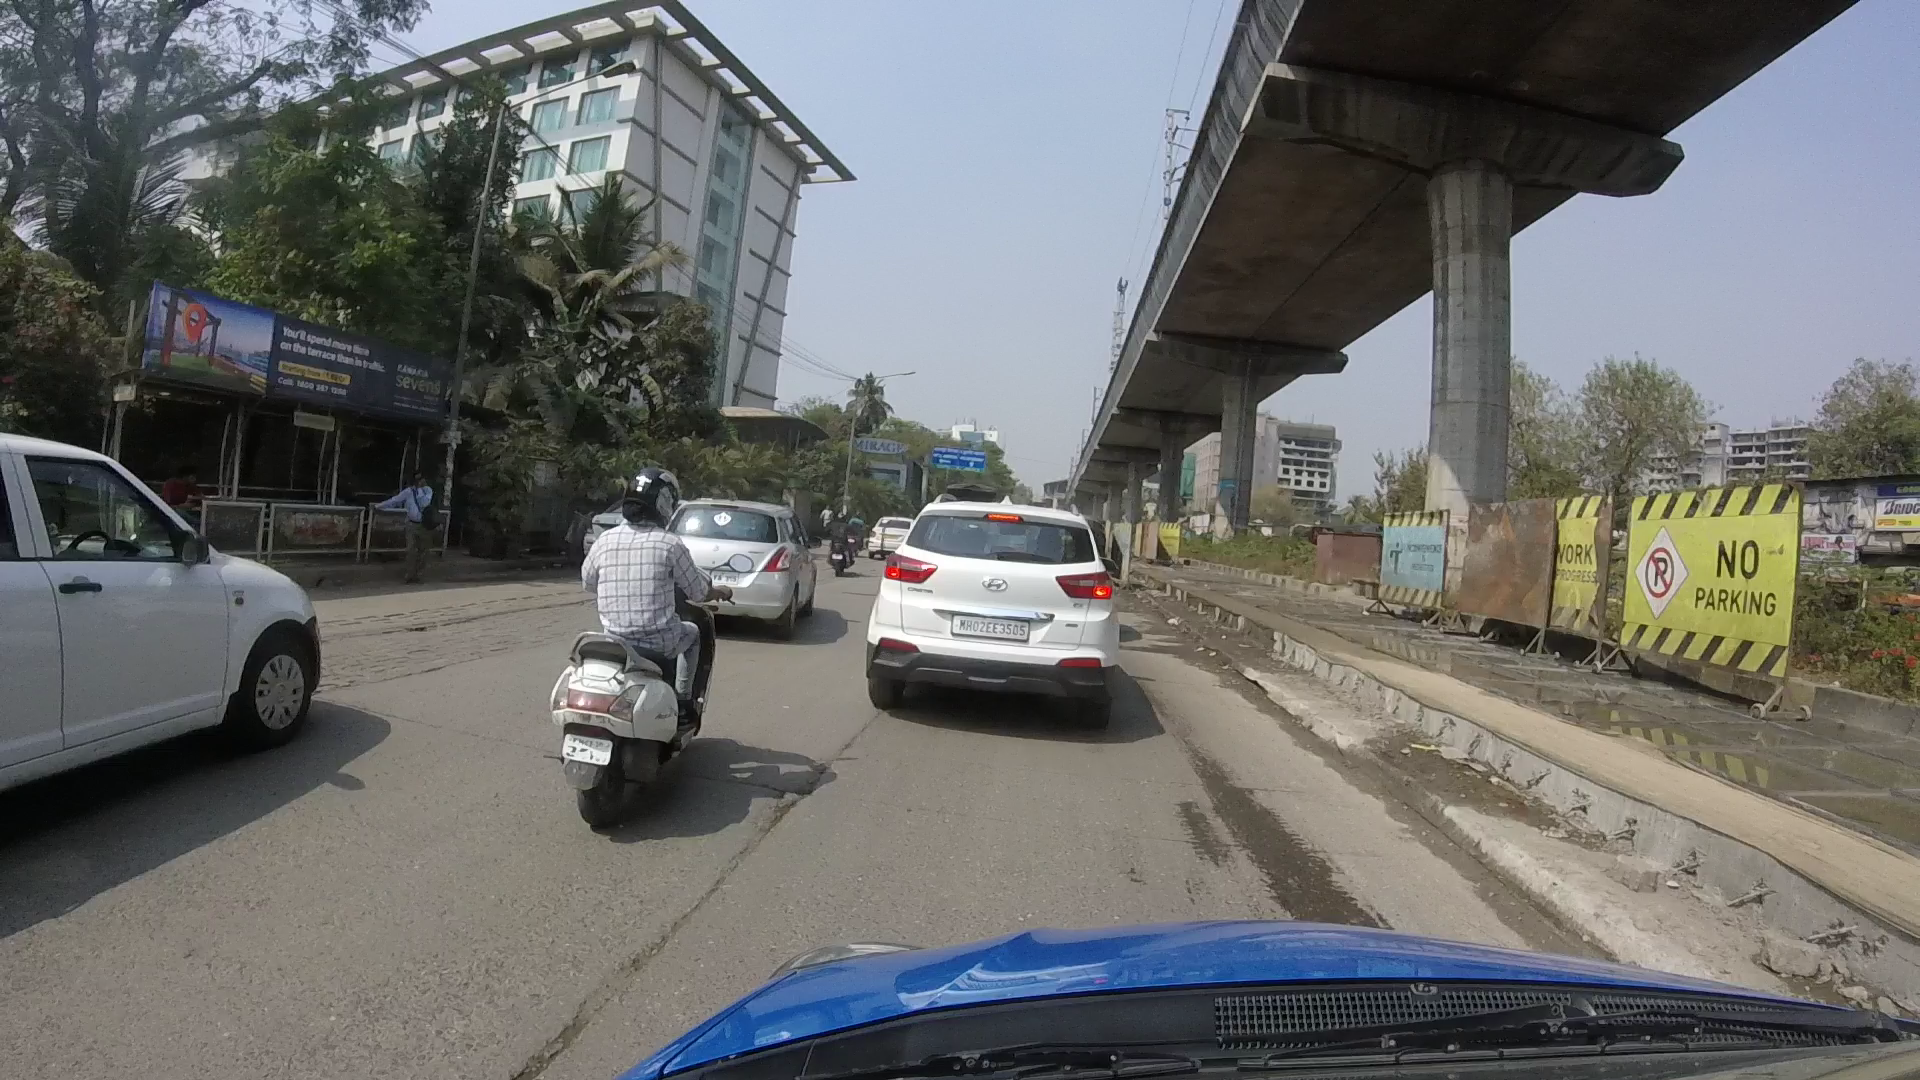bike/scooter: (546, 473, 705, 807)
car: (11, 444, 313, 783), (866, 489, 1125, 695), (673, 495, 787, 622), (849, 506, 922, 556)
